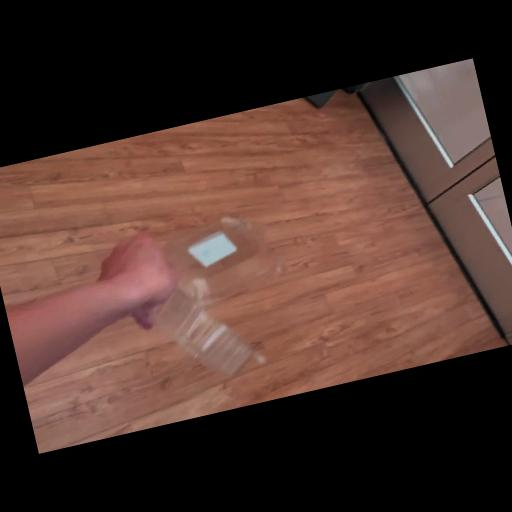lp_paper_cup: (126, 202, 306, 396)
